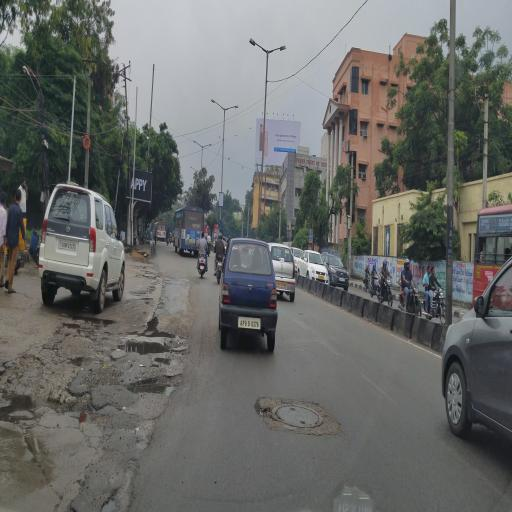street_light_0: (267, 29, 293, 61), (204, 87, 228, 121), (245, 28, 267, 60), (224, 93, 244, 123), (188, 132, 204, 154), (202, 136, 214, 158)
